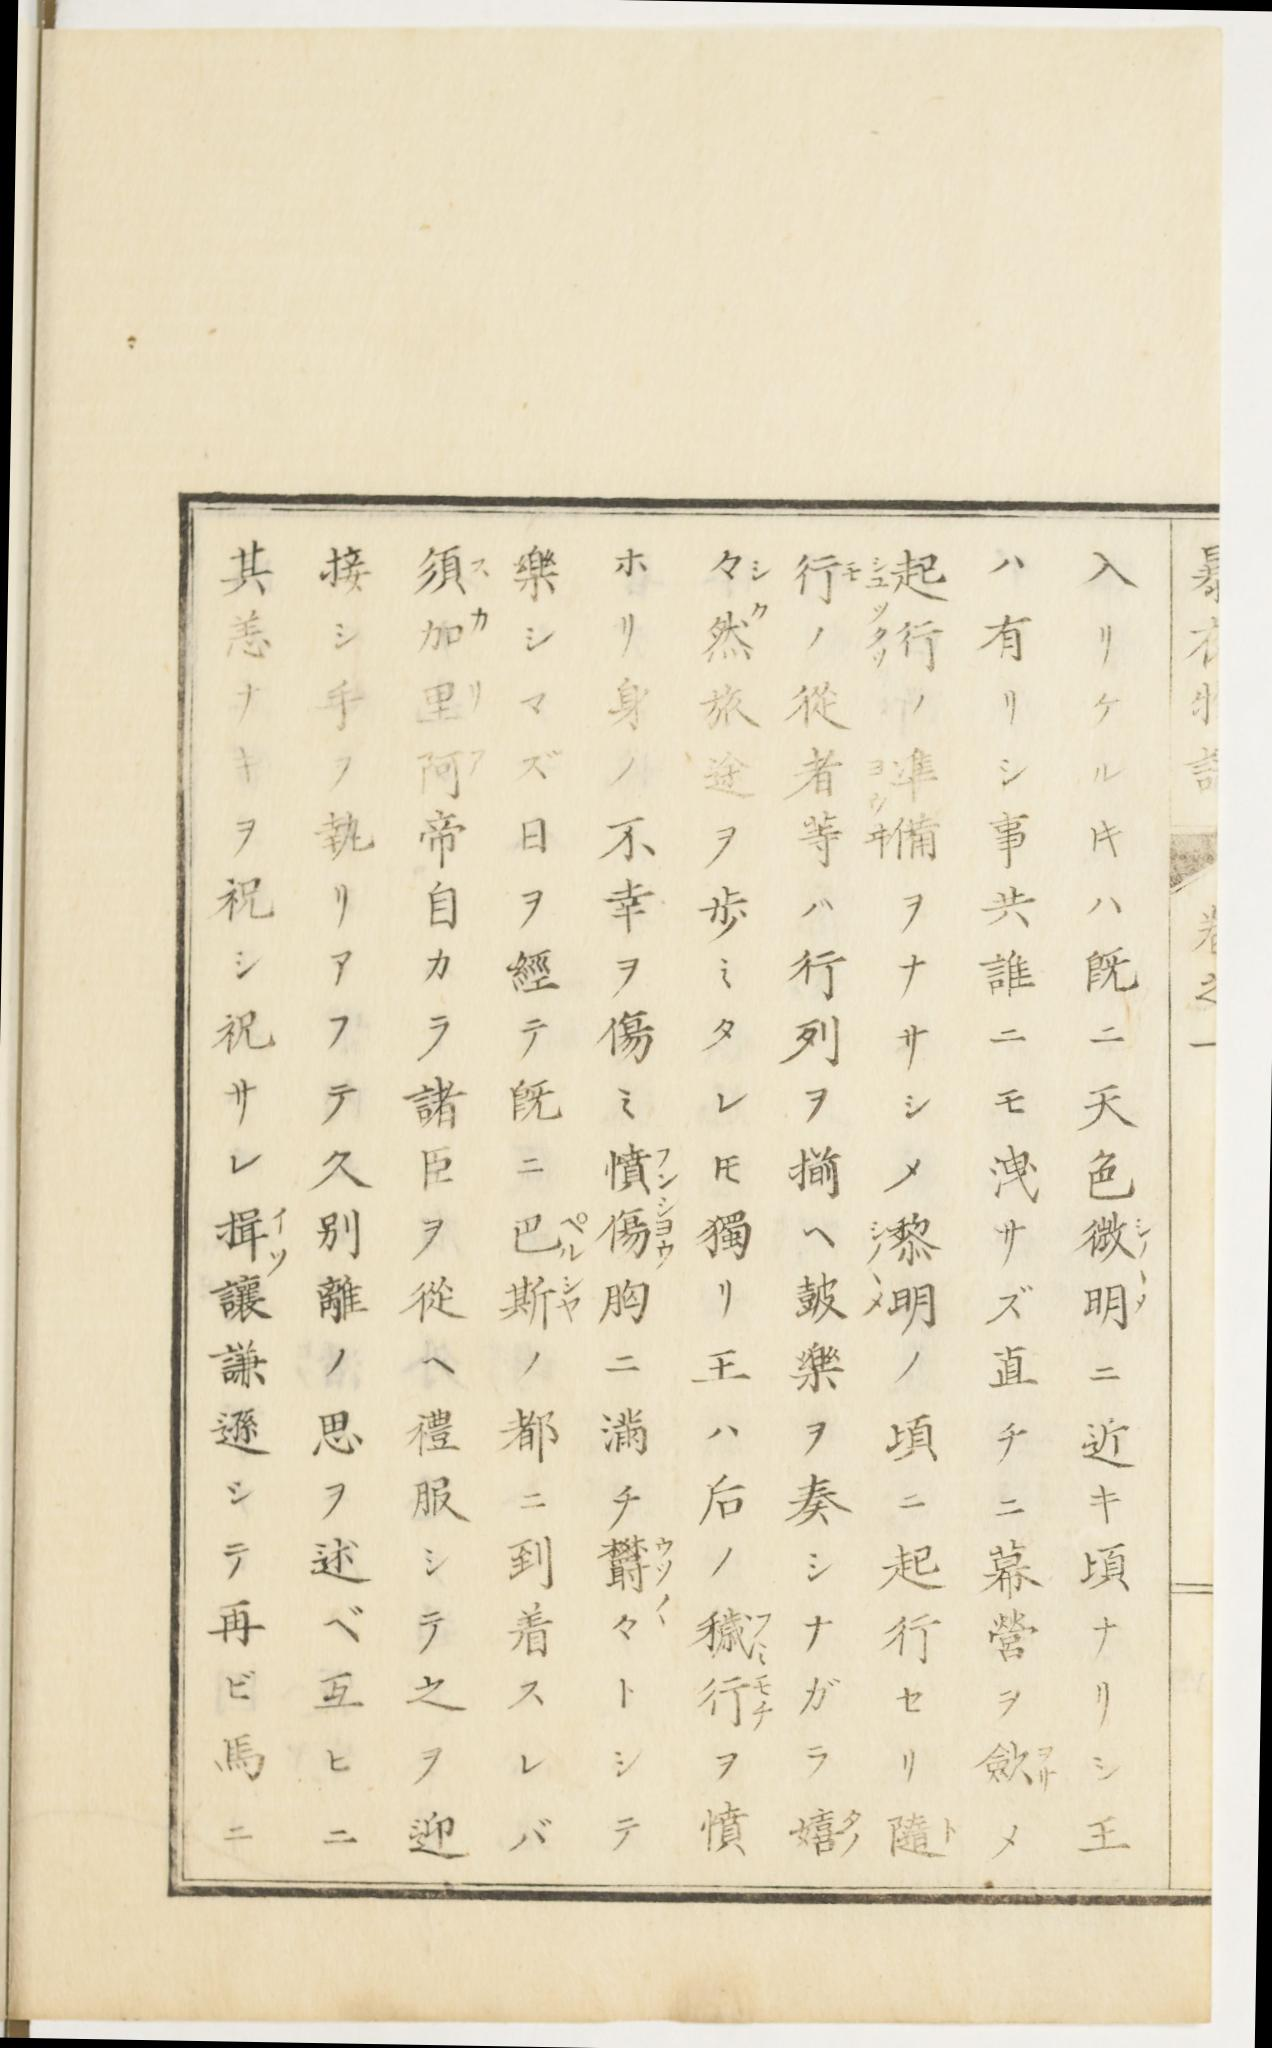MainZone-Character: (596, 1191, 684, 1270), (699, 593, 777, 672), (1073, 1261, 1153, 1336), (212, 1203, 296, 1270), (788, 1793, 868, 1863), (693, 1670, 780, 1733), (494, 1273, 589, 1330), (507, 1207, 595, 1267), (695, 1606, 775, 1670), (784, 549, 866, 609), (879, 1809, 963, 1868), (1073, 1207, 1155, 1264), (979, 1740, 1061, 1796), (598, 1592, 681, 1647), (413, 542, 492, 599), (595, 1534, 677, 1588), (599, 1141, 683, 1191), (711, 543, 771, 587)
MainZone-Ruby: (651, 1191, 678, 1270), (554, 1210, 589, 1266), (268, 1206, 295, 1273), (555, 1275, 589, 1326), (749, 1669, 775, 1732), (747, 1604, 774, 1667), (1033, 1743, 1061, 1795), (651, 1535, 678, 1585), (840, 1802, 865, 1856), (654, 1146, 680, 1191), (746, 549, 775, 589), (1133, 1266, 1156, 1313), (463, 552, 495, 586), (938, 1812, 963, 1844), (652, 1595, 674, 1630), (1136, 1217, 1153, 1258), (750, 595, 772, 623), (844, 558, 866, 585)
